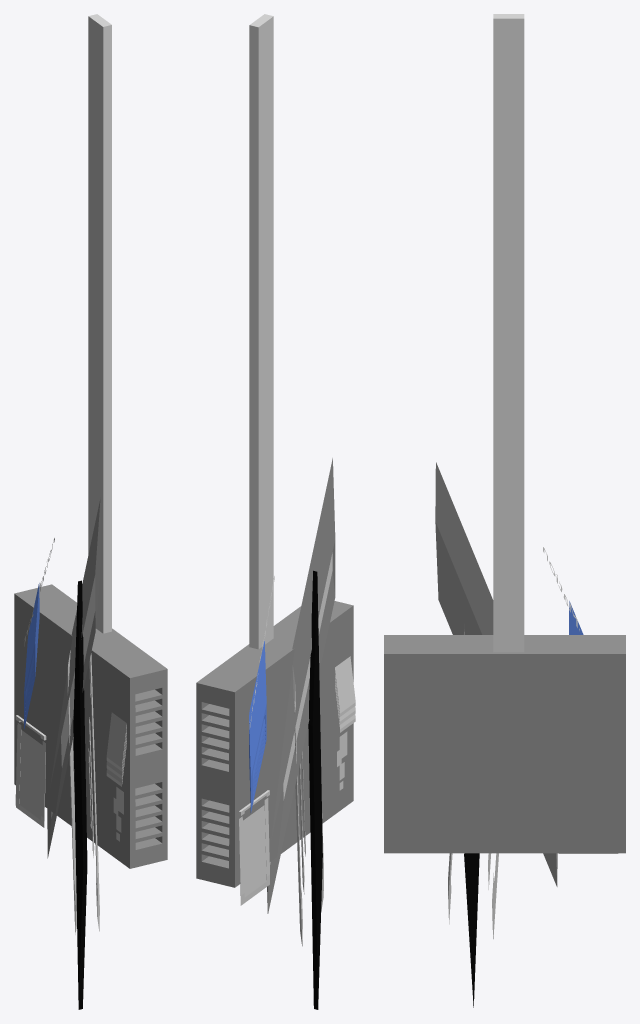
Rendered from Absensi (Sidik Jari).fbx.
The picture shows the model from 3 angles, left to right: view 1: azimuth 30°, elevation 25°; view 2: azimuth 150°, elevation 25°; view 3: azimuth 270°, elevation 25°; orthographic projection. The views are drawn at different scales.
Parts seen in each view (by area): view 1: Cube, Cube.011, Cube.010, Plane, Cube.003, Cube.001, Plane.001, Cube.004, Cube.005; view 2: Cube, Cube.011, Plane, Cube.010, Cube.003, Plane.001, Cube.001, Cube.004; view 3: Cube, Cube.011, Plane, Cube.010.
Part boxes in pixels (box(x1,y1,x2,y2)): Cube: box(14, 584, 167, 868); Cube.011: box(88, 14, 111, 633); Cube.010: box(73, 580, 87, 1009); Plane: box(47, 498, 100, 858); Cube.003: box(15, 723, 45, 827); Cube.001: box(106, 712, 126, 786); Plane.001: box(24, 583, 39, 729); Cube.004: box(67, 650, 76, 934); Cube.005: box(89, 653, 99, 931); Cube: box(196, 601, 353, 887); Cube.011: box(249, 14, 273, 649); Plane: box(267, 458, 335, 913); Cube.010: box(308, 570, 322, 1009); Cube.003: box(239, 798, 269, 905); Plane.001: box(249, 641, 266, 812); Cube.001: box(335, 656, 355, 732); Cube.004: box(292, 665, 302, 946); Cube: box(384, 635, 625, 853); Cube.011: box(493, 14, 524, 652); Plane: box(435, 462, 557, 886); Cube.010: box(464, 853, 479, 1007).
Bounding box in the file's own units: 32.46 × 648 × 141.
